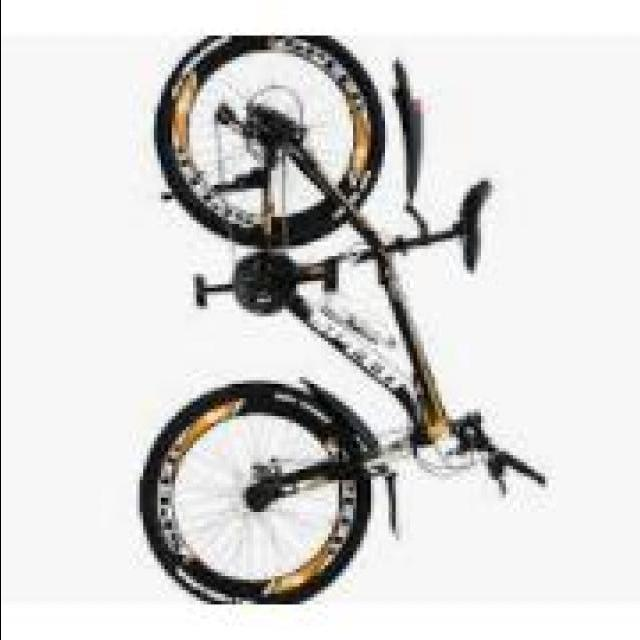bicycle: (122, 26, 524, 612)
